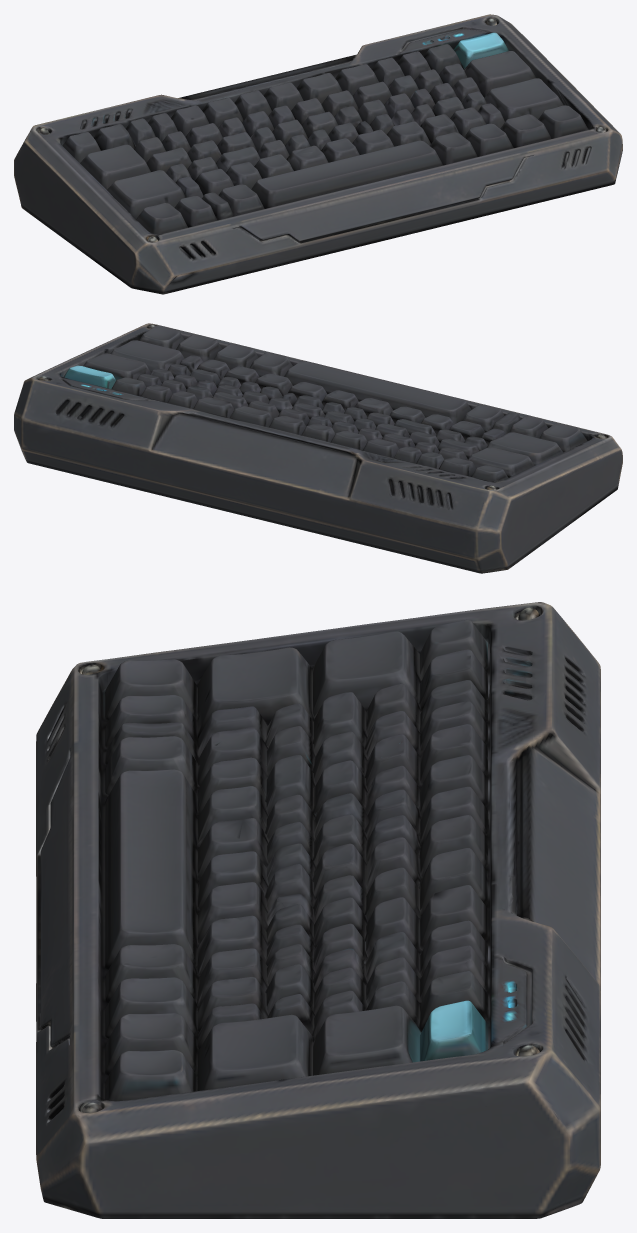
File: SM_A01_Keyboard.glb
The picture shows the model from 3 angles, top to bottom: view 1: azimuth 30°, elevation 25°; view 2: azimuth 150°, elevation 25°; view 3: azimuth 270°, elevation 25°; orthographic projection. The views are drawn at different scales.
Visible parts, largest first — view 1: node_0; view 2: node_0; view 3: node_0.
Part boxes in pixels (x1,y1,x2,y2): node_0: (14, 14, 622, 294); node_0: (14, 323, 622, 573); node_0: (36, 602, 600, 1218).
Bounding box in the file's own units: 1.1 × 0.1669 × 0.5501.
1 material, 1 textured.
